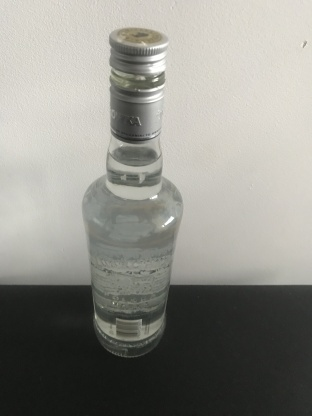nakretka: (107, 25, 169, 144)
